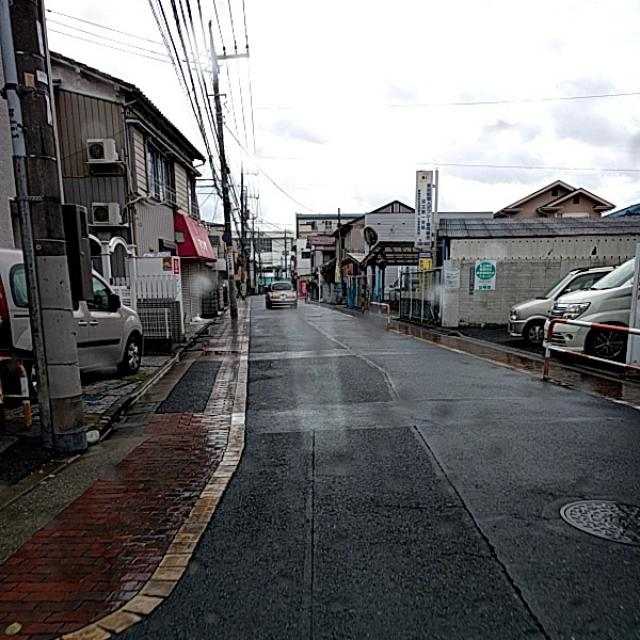pothole: (293, 463, 331, 549)
